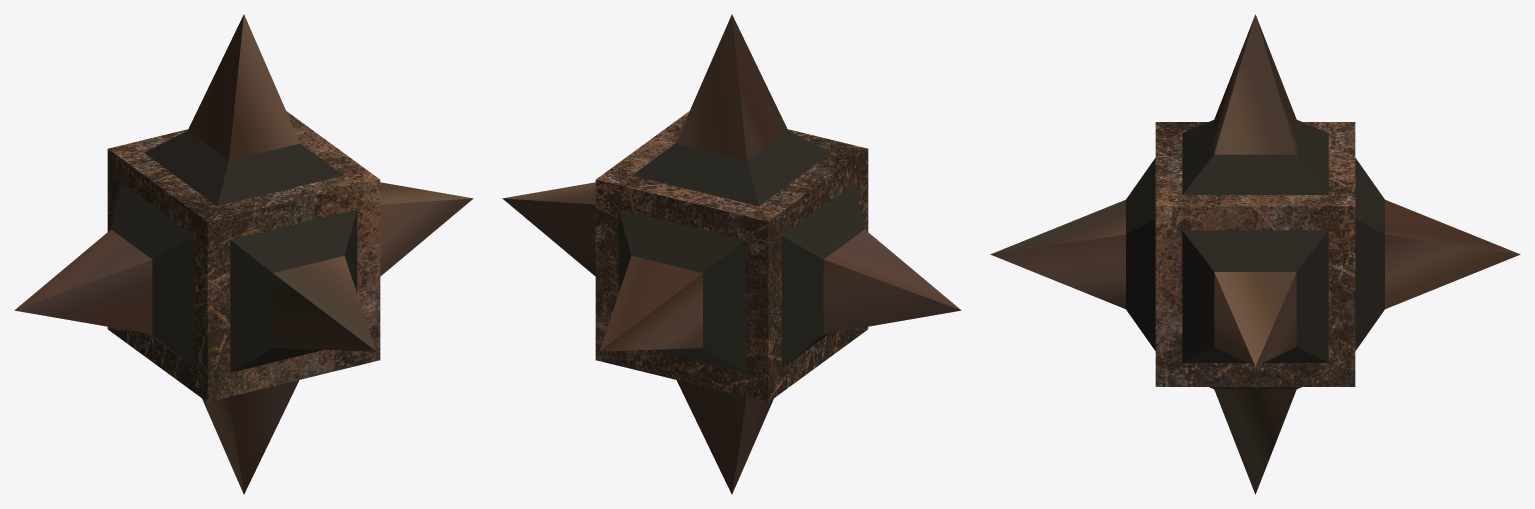
The model's file is SIGMAAAA.fbx.
3 views of the same model, side by side, from view 1: azimuth 30°, elevation 25°; view 2: azimuth 150°, elevation 25°; view 3: azimuth 270°, elevation 25° (orthographic).
Parts seen in each view (by area): view 1: Cube; view 2: Cube; view 3: Cube.
Boxes of the visible parts, x1=… form: Cube: x1=14, y1=14, x2=473, y2=494; Cube: x1=502, y1=14, x2=961, y2=494; Cube: x1=990, y1=14, x2=1520, y2=494.
Bounding box in the file's own units: 532 × 532 × 532.
Materials: 1 (1 with a texture image).
